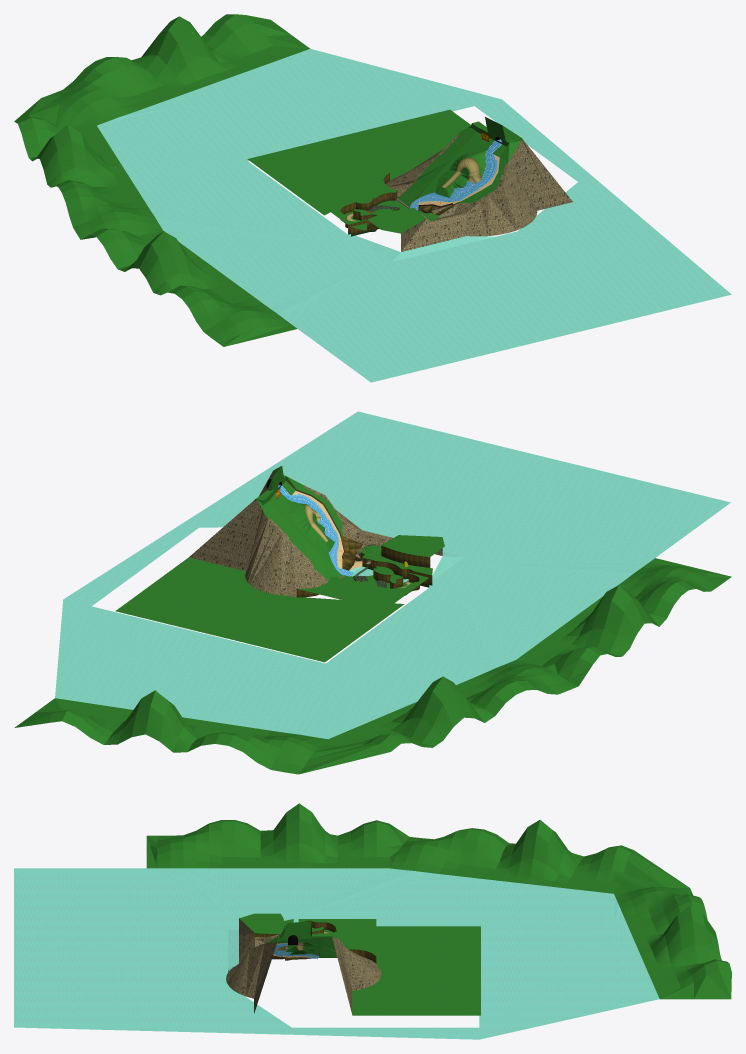
3 renders of one model, top to bottom at view 1: azimuth 30°, elevation 25°; view 2: azimuth 150°, elevation 25°; view 3: azimuth 270°, elevation 25°, orthographic. The views are drawn at different scales.
Parts seen in each view (by area): view 1: Road_agua, Pasto, Rock_2, ROCK, Rio; view 2: Road_agua, Pasto, Rock_2, ROCK, Rio; view 3: Road_agua, Pasto, Rock_2, ROCK.
Boxes of the visible parts, left/top/right/bottom form: Road_agua: left=97, top=49, right=731, bottom=382; Pasto: left=14, top=14, right=521, bottom=346; Rock_2: left=385, top=134, right=572, bottom=251; ROCK: left=340, top=173, right=457, bottom=235; Rio: left=409, top=139, right=501, bottom=210; Road_agua: left=55, top=411, right=730, bottom=739; Pasto: left=14, top=466, right=731, bottom=774; Rock_2: left=189, top=471, right=442, bottom=596; ROCK: left=296, top=536, right=432, bottom=597; Rio: left=278, top=485, right=353, bottom=576; Road_agua: left=14, top=868, right=659, bottom=1039; Pasto: left=146, top=803, right=731, bottom=1015; Rock_2: left=226, top=918, right=381, bottom=1014; ROCK: left=241, top=920, right=376, bottom=963.
Size of the model in its own units: 448900 by 71898 by 667849.
32 materials, 32 textured.
